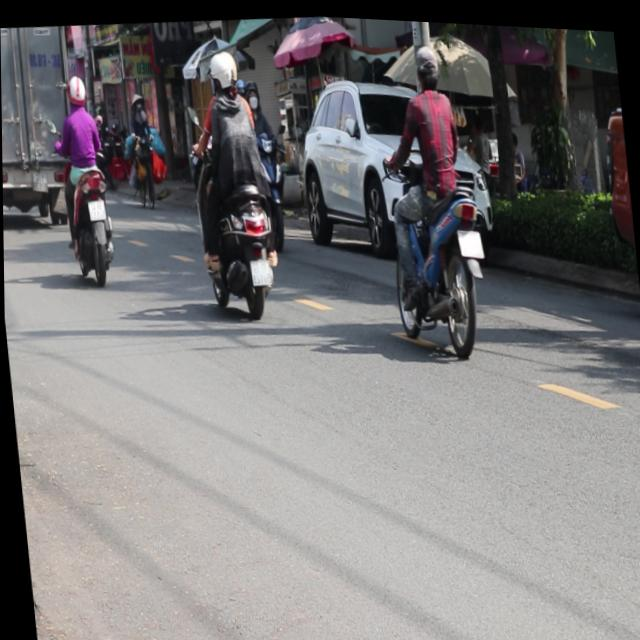helmet: (206, 46, 238, 95), (65, 71, 88, 108)
licenseplate: (368, 28, 499, 358), (177, 37, 292, 321), (48, 67, 120, 284)
motorcyclist: (412, 35, 442, 86)
nohelmet: (456, 223, 482, 252), (248, 254, 269, 282), (86, 196, 104, 218)
